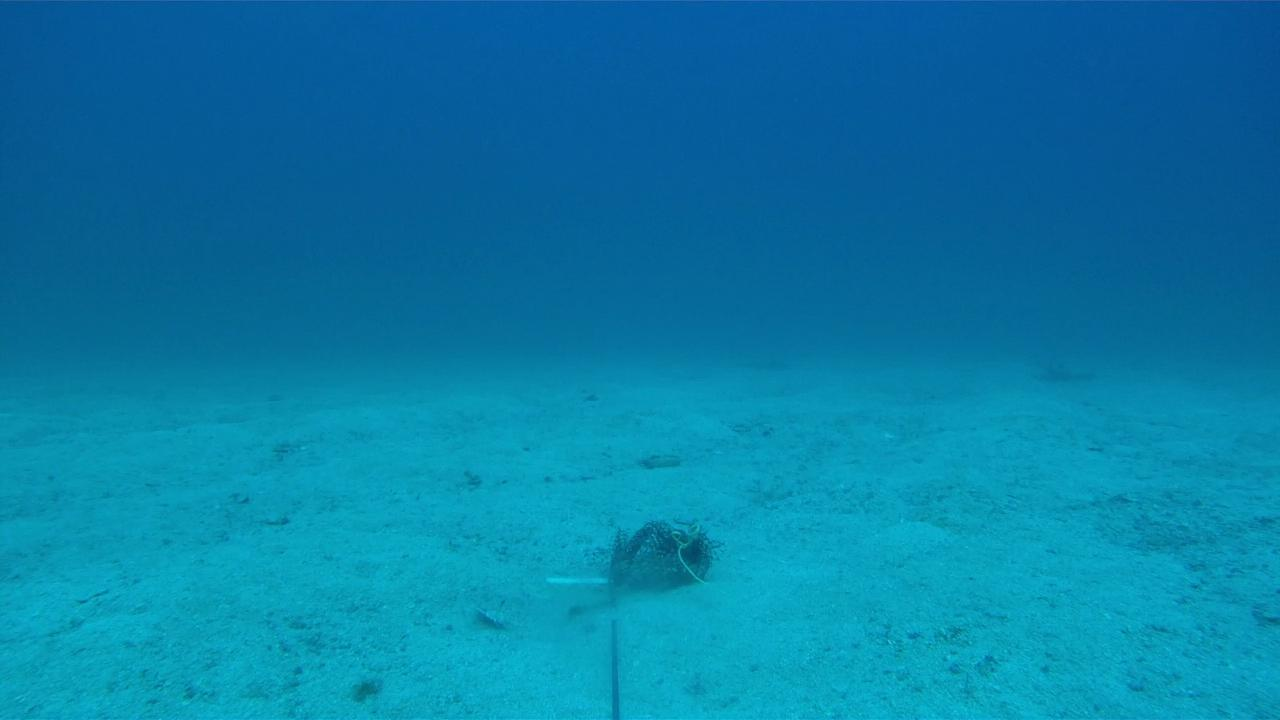bothus: (469, 587, 598, 636)
